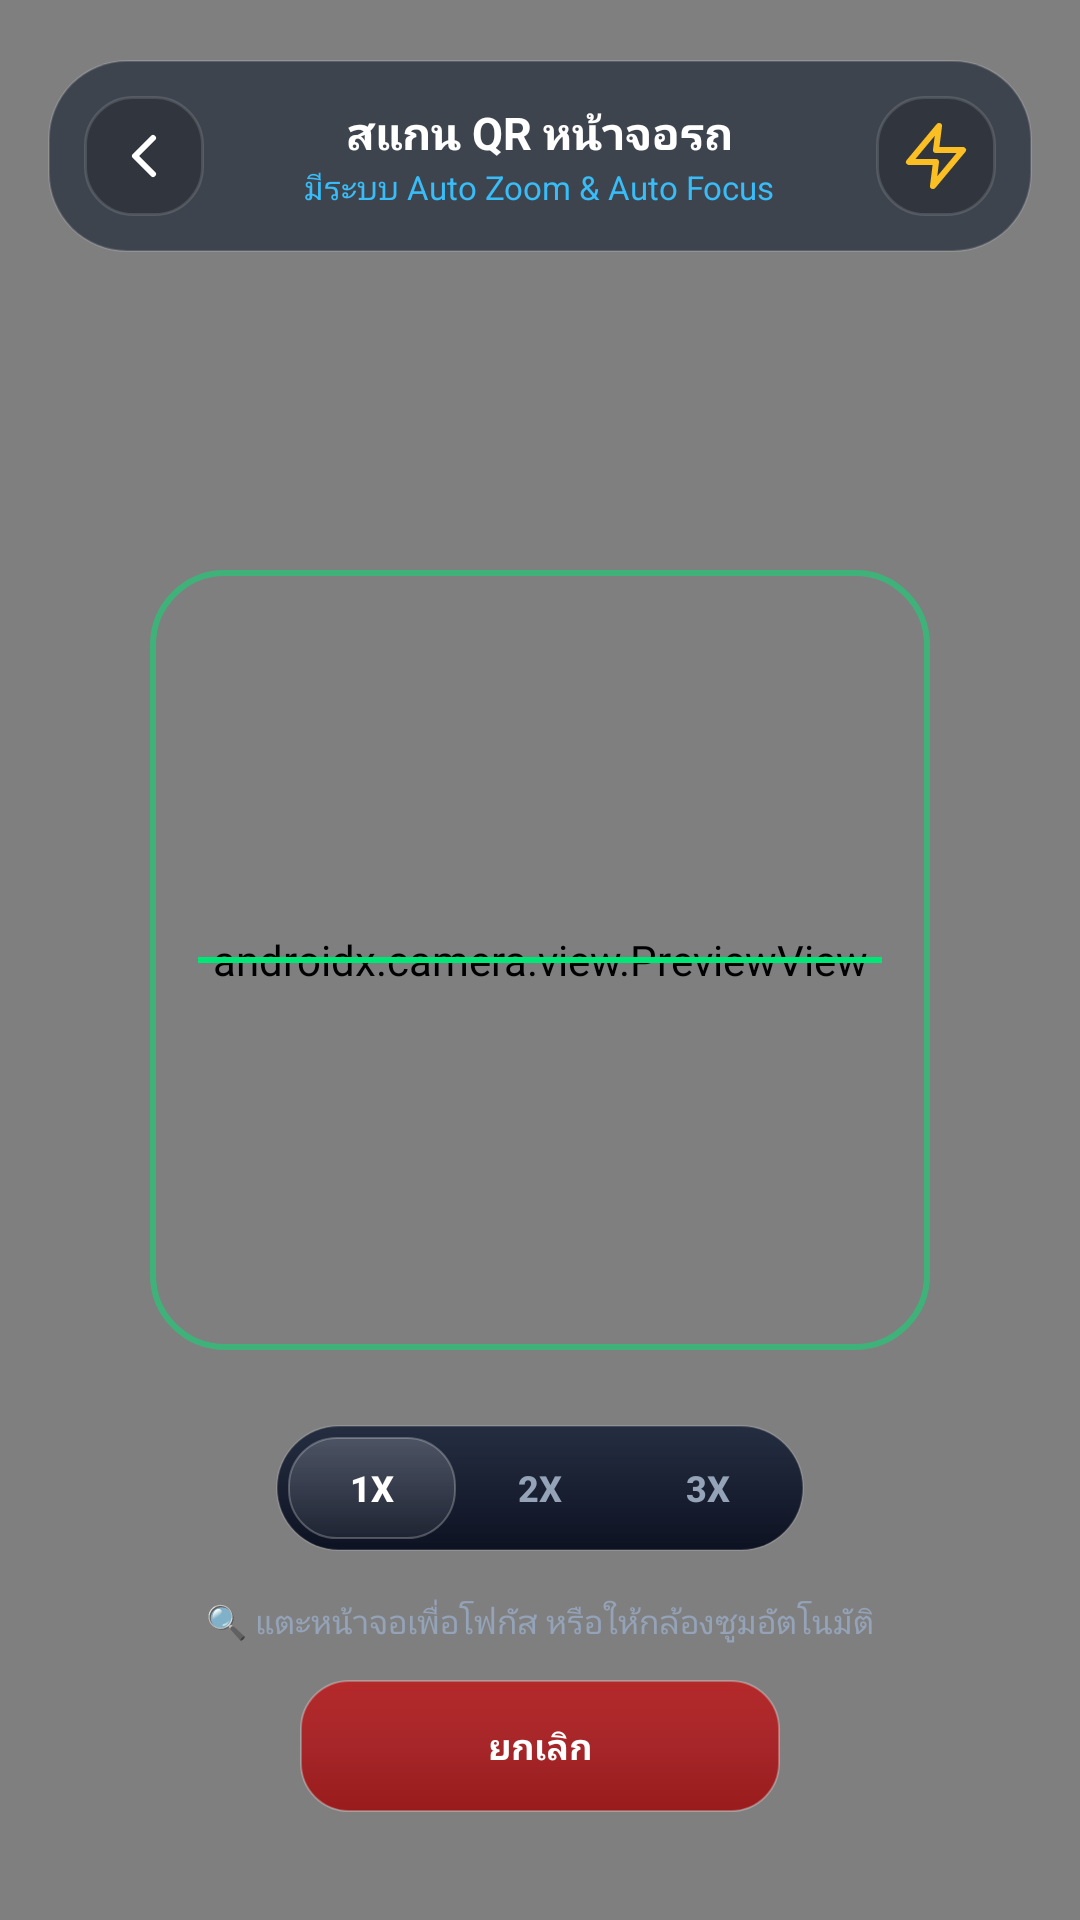

Where to tap for icons on this 1080x1920 app screen, as point (x, y):
กลับ: point (144, 156)
เปิดไฟฉาย: point (936, 156)
